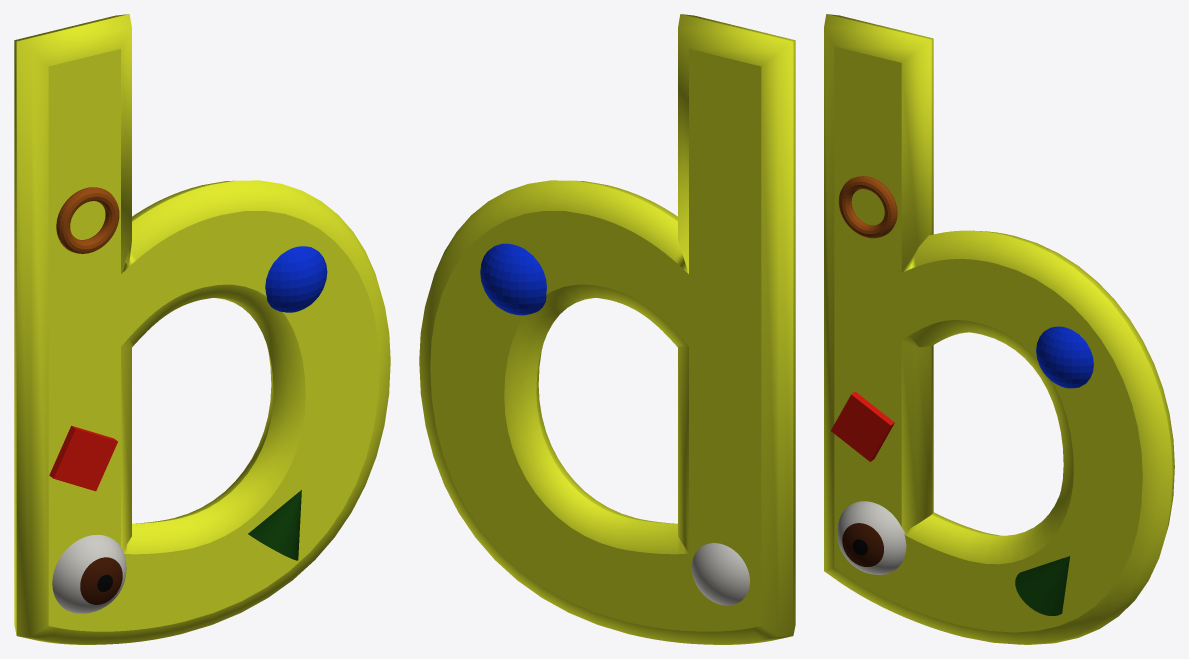
The model's file is send_b_noanim.fbx.
3 views of the same model, side by side, from view 1: azimuth 30°, elevation 25°; view 2: azimuth 150°, elevation 25°; view 3: azimuth 330°, elevation 25° (orthographic). The views are drawn at different scales.
Visible parts, largest first — view 1: Text, Text.001, Sphere; view 2: Text, Text.001, Sphere; view 3: Text, Text.001, Sphere.
Part boxes in pixels (box(x1,y1,x2,y2)): Text: box(14, 14, 390, 644); Text.001: box(49, 187, 327, 560); Sphere: box(52, 534, 126, 613); Text: box(419, 14, 795, 644); Text.001: box(480, 243, 546, 315); Sphere: box(691, 543, 749, 605); Text: box(824, 14, 1174, 644); Text.001: box(831, 176, 1093, 615); Sphere: box(837, 501, 906, 574).
Bounding box in the file's own units: 188 × 304 × 44.48.
